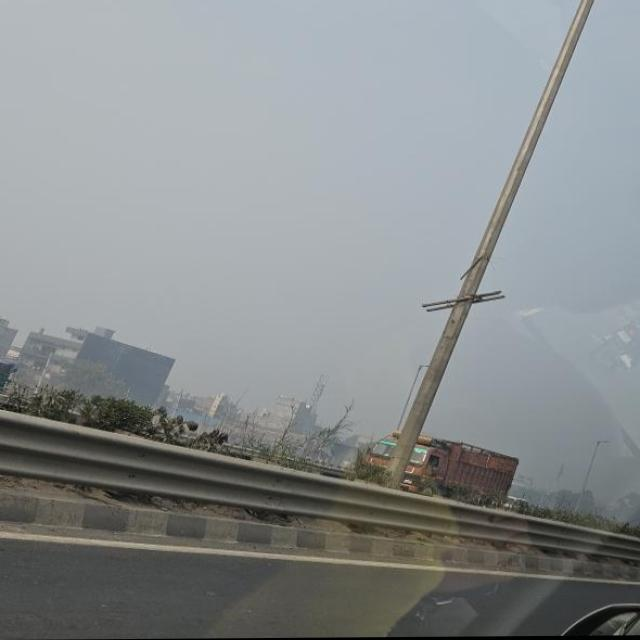uncovered: (358, 432, 536, 484)
